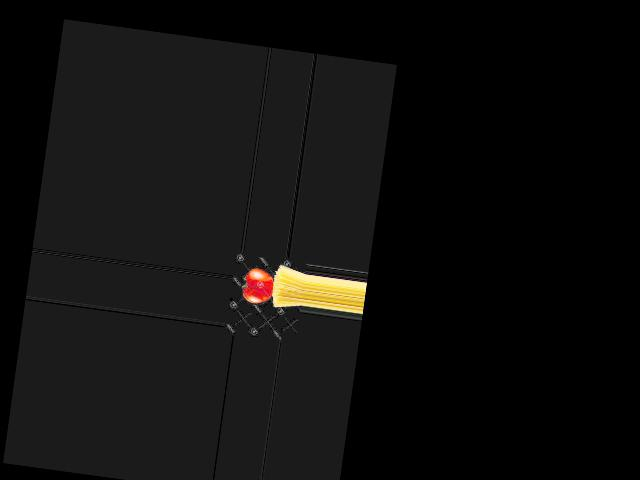tomato: (242, 267, 275, 304)
